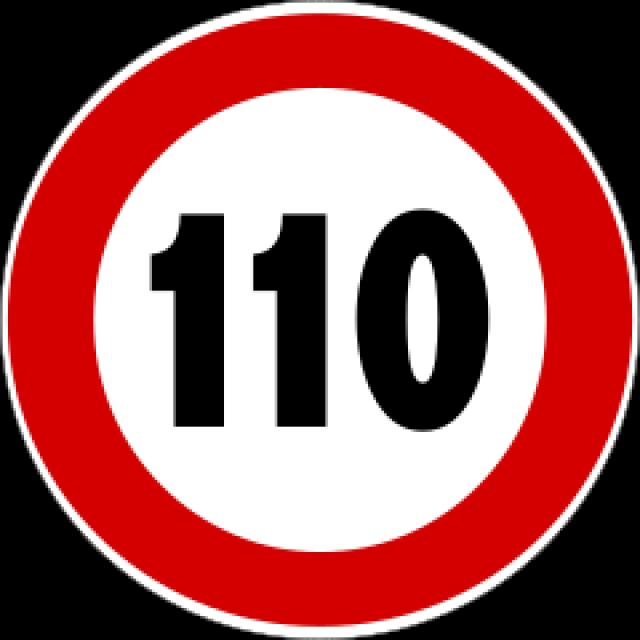Speed Limit -110-: (135, 195, 509, 455)
